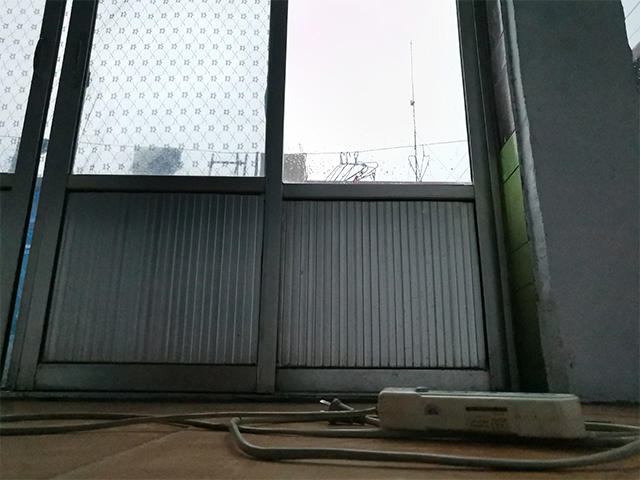wire: (1, 382, 639, 473)
